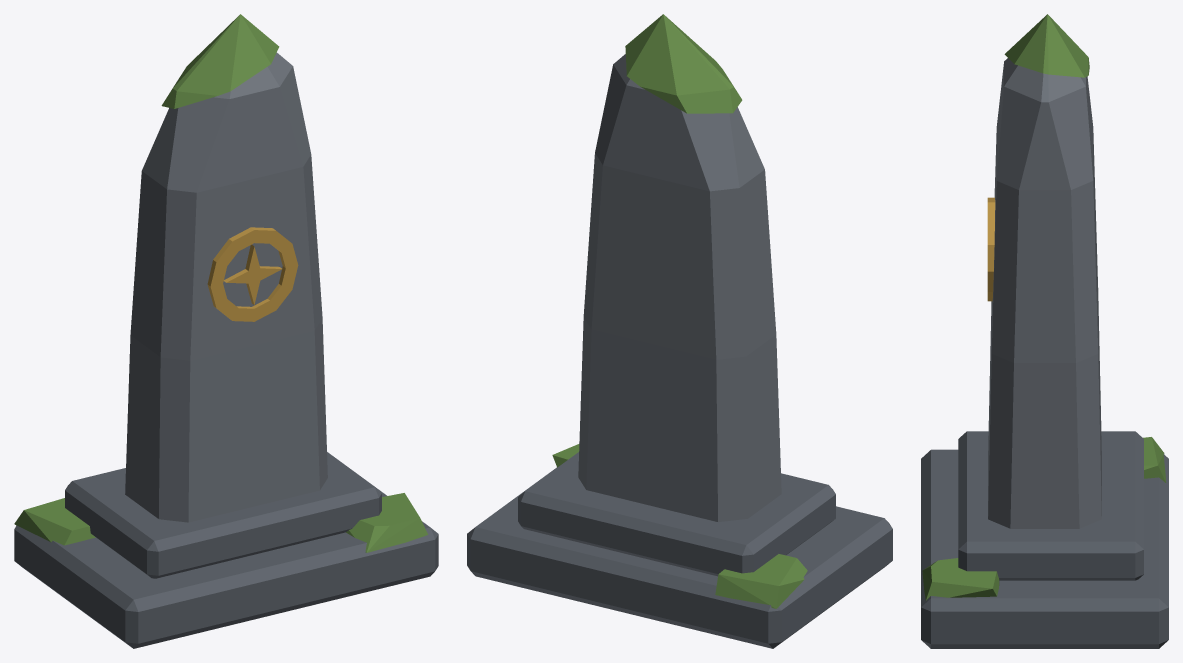
Rendered from Shrine.fbx.
3 renders of one model, left to right at view 1: azimuth 30°, elevation 25°; view 2: azimuth 150°, elevation 25°; view 3: azimuth 270°, elevation 25°, orthographic. The views are drawn at different scales.
Visible parts, largest first — view 1: Stone, Plinth, Moss, Sigil; view 2: Stone, Plinth, Moss; view 3: Stone, Plinth, Moss, Sigil.
Boxes of the visible parts, box(x1,y1,x2,y2) form: Stone: box(125, 52, 327, 522); Plinth: box(14, 452, 438, 648); Moss: box(14, 14, 428, 552); Sigil: box(207, 227, 298, 321); Stone: box(578, 54, 781, 522); Plinth: box(467, 452, 892, 648); Moss: box(552, 14, 807, 608); Stone: box(988, 58, 1101, 528); Plinth: box(921, 431, 1168, 648); Moss: box(922, 14, 1166, 600); Sigil: box(987, 197, 995, 301).
Size of the model in its own units: 3 by 5.06 by 2.
